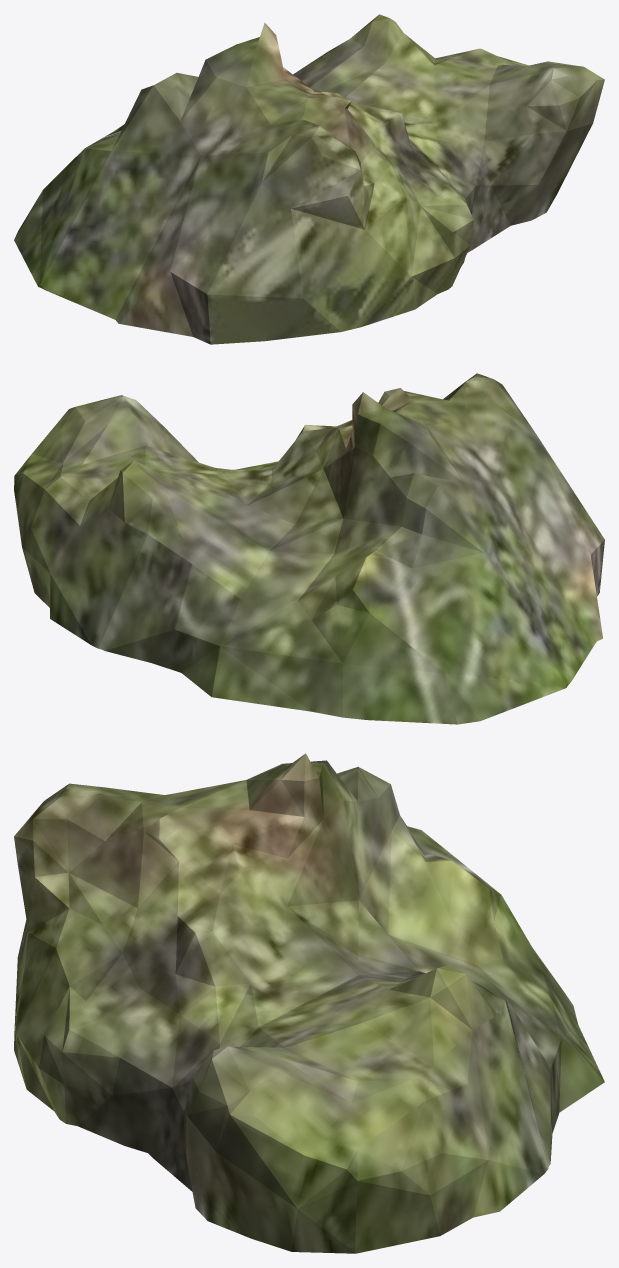
3 views of the same model, one above another, from view 1: azimuth 30°, elevation 25°; view 2: azimuth 150°, elevation 25°; view 3: azimuth 270°, elevation 25° (orthographic). The views are drawn at different scales.
Bounding box in the file's own units: 1.8 × 0.7199 × 1.27.
1 material, 1 textured.
